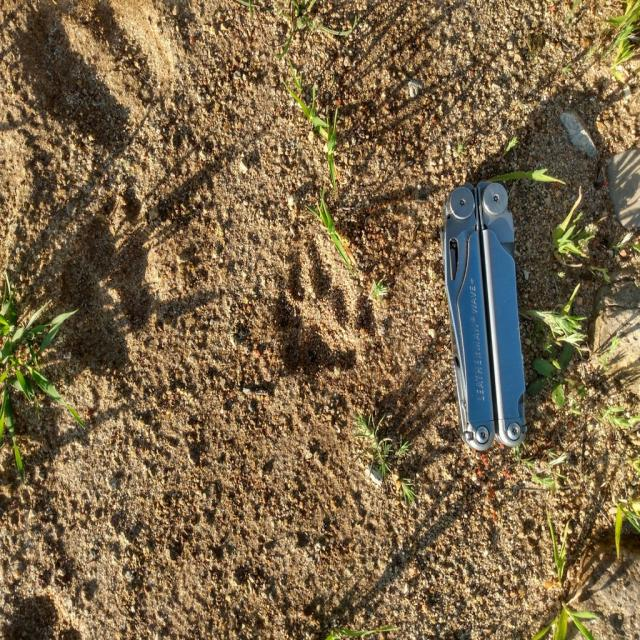felid: (64, 222, 154, 376), (276, 260, 361, 372)
